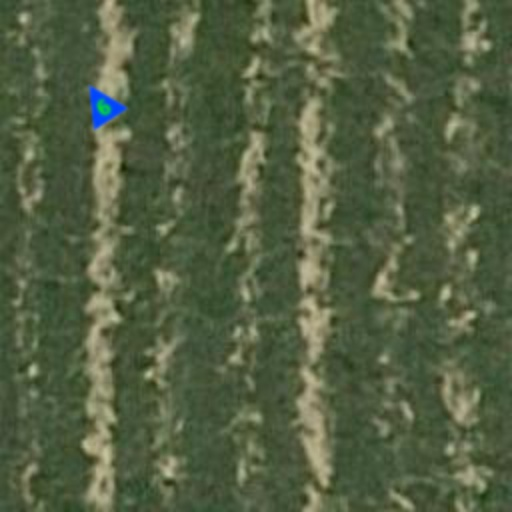triangle: (70, 72, 130, 132)
